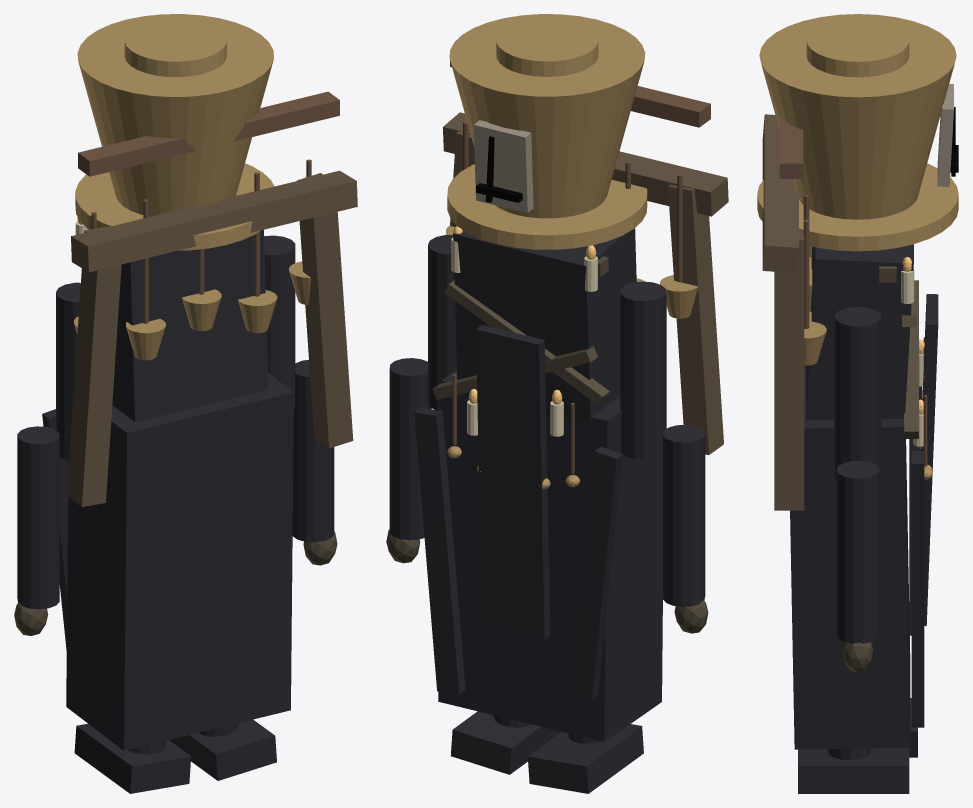
Rendered from bell_saint_v2_blockout.glb.
3 renders of one model, left to right at view 1: azimuth 30°, elevation 25°; view 2: azimuth 150°, elevation 25°; view 3: azimuth 270°, elevation 25°, orthographic.
Parts seen in each view (by area): view 1: BS_LowerRobe_mass, BS_MainBellHead_bronze, BS_UpperRobe_mass, BS_BackYoke_crossbeam, BS_BackYoke_left_support, BS_BackYoke_right_support, BS_LeftForeSleeve, BS_RightForeSleeve, BS_BackSmallBellRail, BS_BellHead_top_cap, BS_LeftFoot_under_robe, BS_RightUpperSleeve (+10 smaller); view 2: BS_LowerRobe_mass, BS_MainBellHead_bronze, BS_Robe_front_hanging_panel, BS_UpperRobe_mass, BS_BackYoke_left_support, BS_Robe_right_torn_panel, BS_BellHead_rim, BS_LeftUpperSleeve, BS_LeftForeSleeve, BS_Robe_left_torn_panel, BS_RightForeSleeve, BS_BellHead_top_cap (+12 smaller); view 3: BS_LowerRobe_mass, BS_MainBellHead_bronze, BS_UpperRobe_mass, BS_RightForeSleeve, BS_BackYoke_right_support, BS_RightUpperSleeve, BS_BellHead_rim, BS_BellHead_top_cap, BS_RightFoot_under_robe, BS_BackYoke_crossbeam, BS_Robe_right_torn_panel, BS_Robe_front_hanging_panel (+9 smaller).
Boxes of the visible parts, x1,y1,x2,y2 form: BS_LowerRobe_mass: [66, 373, 293, 750]; BS_MainBellHead_bronze: [77, 14, 273, 216]; BS_UpperRobe_mass: [112, 230, 268, 422]; BS_BackYoke_crossbeam: [71, 170, 357, 272]; BS_BackYoke_left_support: [67, 226, 121, 506]; BS_BackYoke_right_support: [297, 173, 353, 448]; BS_LeftForeSleeve: [17, 426, 59, 609]; BS_RightForeSleeve: [292, 359, 334, 542]; BS_BackSmallBellRail: [78, 91, 339, 176]; BS_BellHead_top_cap: [124, 18, 226, 77]; BS_LeftFoot_under_robe: [74, 723, 191, 793]; BS_RightUpperSleeve: [264, 235, 295, 407]; BS_LowerRobe_mass: [438, 370, 662, 742]; BS_MainBellHead_bronze: [449, 14, 645, 218]; BS_Robe_front_hanging_panel: [476, 325, 550, 639]; BS_UpperRobe_mass: [453, 228, 636, 425]; BS_BackYoke_left_support: [668, 184, 723, 454]; BS_Robe_right_torn_panel: [414, 407, 465, 694]; BS_BellHead_rim: [447, 164, 647, 249]; BS_LeftUpperSleeve: [620, 281, 666, 459]; BS_LeftForeSleeve: [663, 424, 705, 606]; BS_Robe_left_torn_panel: [569, 446, 622, 702]; BS_RightForeSleeve: [389, 358, 431, 540]; BS_BellHead_top_cap: [496, 18, 598, 76]; BS_LowerRobe_mass: [790, 365, 910, 749]; BS_MainBellHead_bronze: [759, 14, 956, 219]; BS_UpperRobe_mass: [806, 244, 913, 420]; BS_RightForeSleeve: [836, 461, 879, 643]; BS_BackYoke_right_support: [774, 230, 804, 510]; BS_RightUpperSleeve: [834, 306, 881, 479]; BS_BellHead_rim: [757, 163, 958, 251]; BS_BellHead_top_cap: [806, 18, 909, 77]; BS_RightFoot_under_robe: [798, 747, 909, 793]; BS_BackYoke_crossbeam: [762, 114, 798, 272]; BS_Robe_right_torn_panel: [911, 451, 924, 727]; BS_Robe_front_hanging_panel: [920, 294, 938, 626].
Size of the model in its own units: 1.73 by 3.72 by 0.94.
